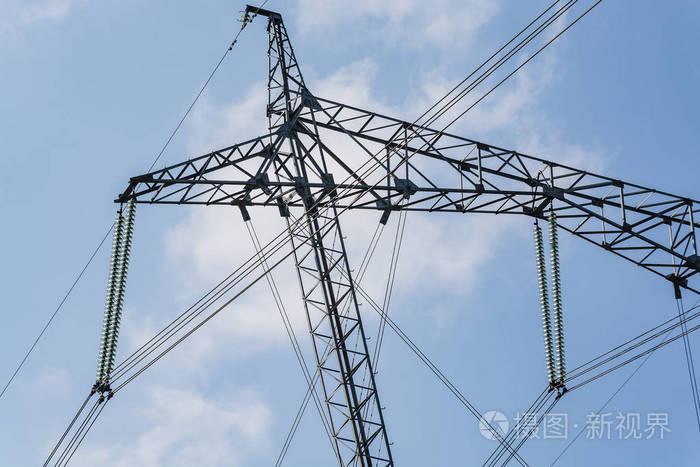insulator: (97, 199, 137, 382), (532, 211, 567, 384)
